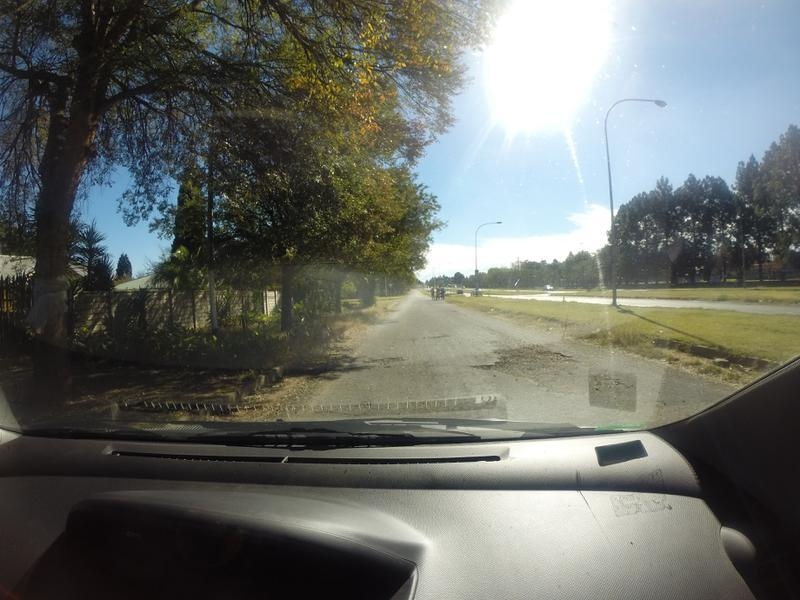pothole: (471, 338, 589, 396), (593, 368, 644, 402), (362, 351, 422, 367), (413, 330, 462, 342)
